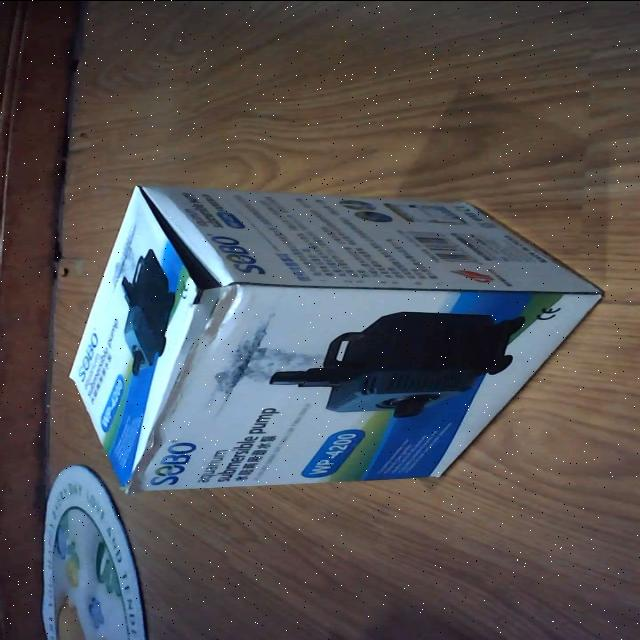SOBO_WP_4200: (57, 182, 609, 494)
